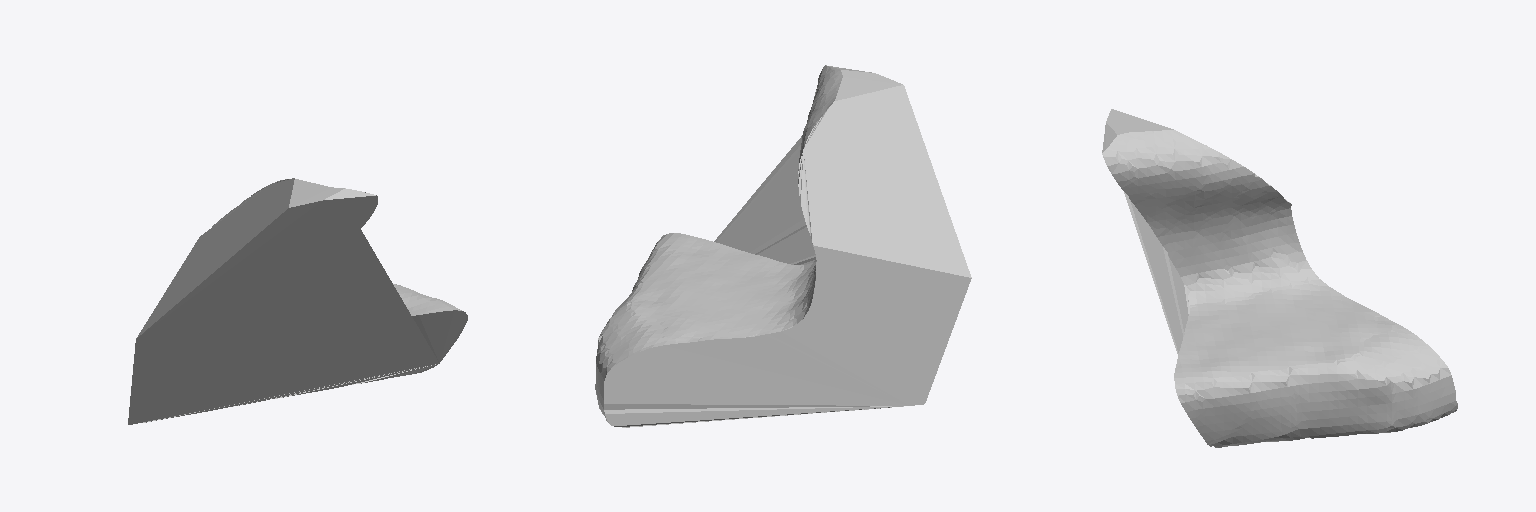
File: low_cell_066.obj
The picture shows the model from 3 angles: view 1: azimuth 30°, elevation 25°; view 2: azimuth 150°, elevation 25°; view 3: azimuth 270°, elevation 25°; orthographic projection.
Parts seen in each view (by area): view 1: low_cell.066_low_cell.065; view 2: low_cell.066_low_cell.065; view 3: low_cell.066_low_cell.065.
Part boxes in pixels (left/top/right/bottom): low_cell.066_low_cell.065: left=128, top=178, right=467, bottom=424; low_cell.066_low_cell.065: left=595, top=65, right=971, bottom=427; low_cell.066_low_cell.065: left=1102, top=109, right=1457, bottom=447.
Size of the model in its own units: 0.7696 by 0.5671 by 0.7318.